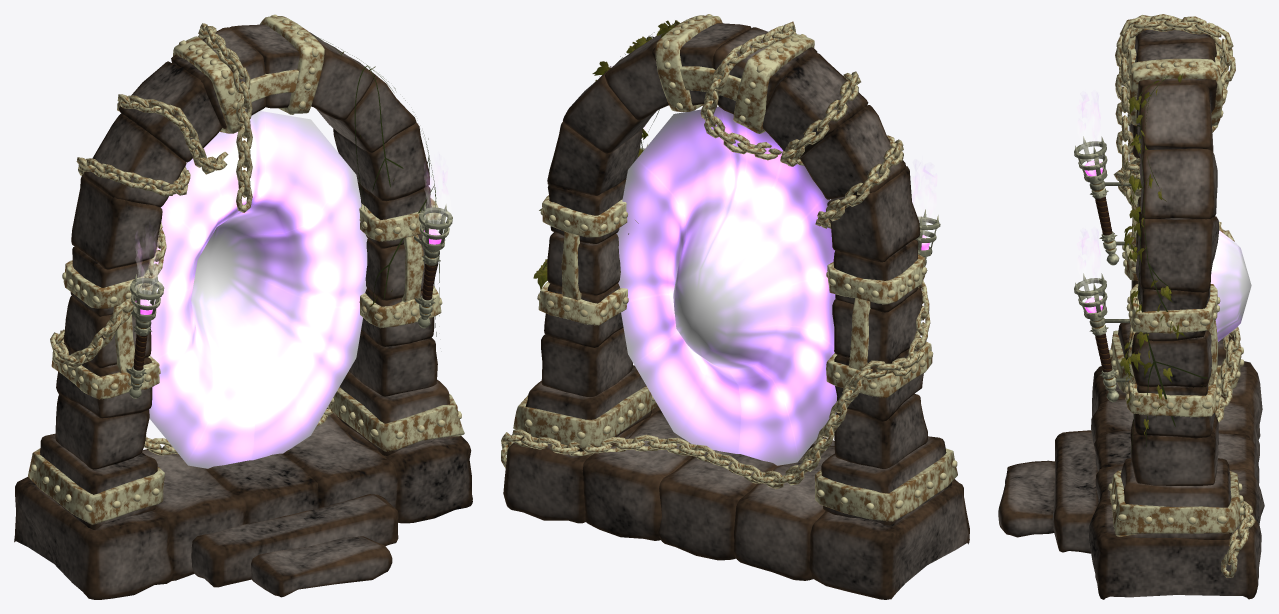
Rendered from ancient_portal_frame.glb.
3 renders of one model, left to right at view 1: azimuth 30°, elevation 25°; view 2: azimuth 150°, elevation 25°; view 3: azimuth 270°, elevation 25°, orthographic. The views are drawn at different scales.
Parts seen in each view (by area): view 1: Object_13, Object_7, Object_9, Object_10, Object_14, Object_11, Object_2, Object_3, Object_5; view 2: Object_13, Object_7, Object_9, Object_10, Object_11, Object_12, Object_2, Object_14; view 3: Object_13, Object_9, Object_10, Object_14, Object_7, Object_12, Object_11, Object_2, Object_3, Object_5.
Part boxes in pixels (x1,y1,x2,y2): Object_13: (14, 24, 472, 599); Object_7: (149, 111, 367, 468); Object_9: (28, 16, 464, 524); Object_10: (50, 23, 332, 455); Object_14: (126, 203, 452, 398); Object_11: (30, 14, 461, 512); Object_2: (135, 166, 450, 302); Object_3: (313, 35, 439, 336); Object_5: (133, 264, 436, 370); Object_13: (503, 23, 969, 599); Object_7: (616, 106, 836, 465); Object_9: (513, 15, 957, 521); Object_10: (501, 21, 930, 489); Object_11: (525, 14, 957, 510); Object_12: (533, 20, 679, 289); Object_2: (640, 126, 936, 237); Object_14: (640, 144, 940, 320); Object_13: (998, 30, 1264, 599); Object_9: (1109, 19, 1241, 536); Object_10: (1113, 14, 1255, 577); Object_14: (1074, 136, 1131, 402); Object_7: (1210, 230, 1251, 341); Object_12: (1120, 73, 1205, 455); Object_11: (1108, 18, 1244, 524); Object_2: (1077, 95, 1103, 301); Object_3: (1127, 75, 1207, 452); Object_5: (1095, 196, 1112, 372).
Bounding box in the file's own units: 2.05 × 2.44 × 1.21.
Materials: 10 (7 with a texture image).
